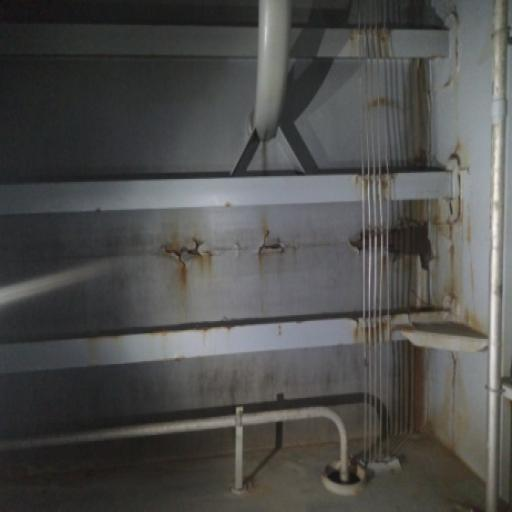Detect-rust-on-metal-surfaces: (167, 236, 235, 282), (256, 219, 291, 264)
